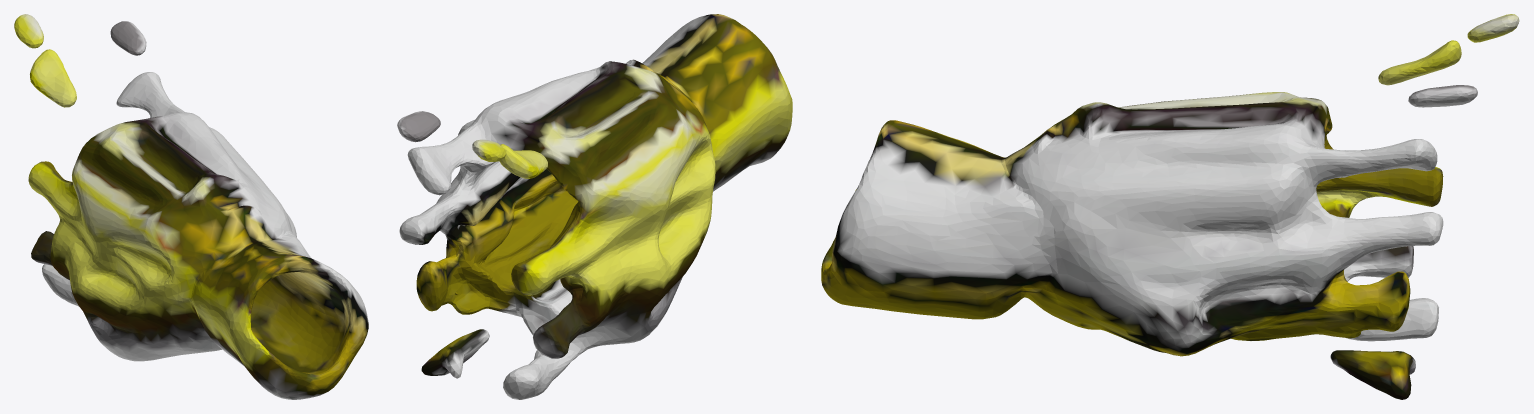
The model's file is thunderking_gauntlet.glb.
3 views of the same model, side by side, from view 1: azimuth 30°, elevation 25°; view 2: azimuth 150°, elevation 25°; view 3: azimuth 270°, elevation 25° (orthographic). The views are drawn at different scales.
Parts seen in each view (by area): view 1: geometry_0; view 2: geometry_0; view 3: geometry_0.
Boxes of the visible parts, x1,y1,x2,y2 form: geometry_0: (14,14,368,399); geometry_0: (397,14,792,399); geometry_0: (821,14,1519,399).
Bounding box in the file's own units: 0.5714 × 0.75 × 1.43.
